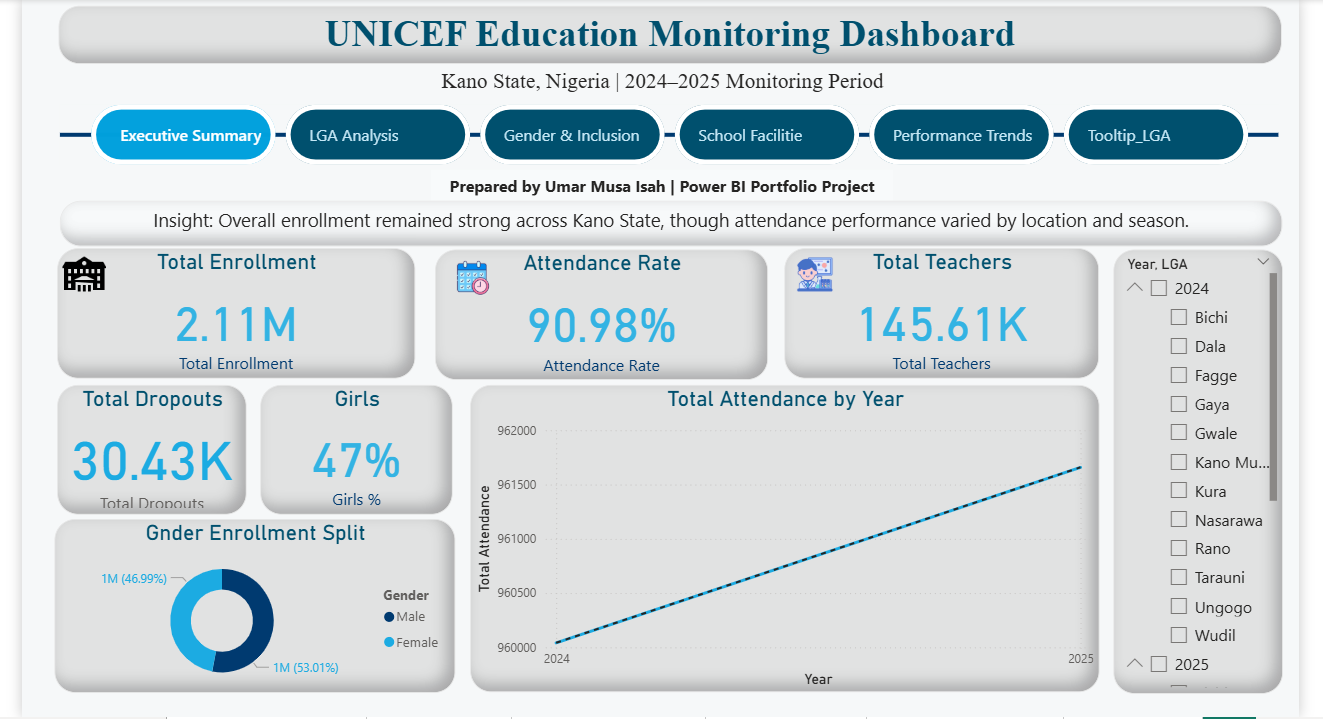

The page's visual inventory and layout, read from the dashboard file:
{"tool":"powerbi","page":{"name":"Executive Summary","canvas":[1280,720],"ordinal":0},"visuals":[{"type":"shape","box":[38.3,105.6,1221.1,60.5],"z":0},{"type":"card","title":"Total Enrollment","fields":{"Values":["Raw_Data.Total Enrollment"]},"box":[35.4,250.6,358.6,131],"z":0,"group":"g1"},{"type":"card","title":"Attendance Rate","fields":{"Values":["Raw_Data.Attendance Rate"]},"box":[414.4,250.5,334.1,131],"z":1000,"group":"g2"},{"type":"donutChart","title":"Gnder Enrollment Split","fields":{"Y":["Sum(Raw_Data.Enrollment)"],"Category":["Raw_Data.Gender"]},"box":[33.1,521.3,401.8,174.2],"z":1000},{"type":"card","title":"Girls","fields":{"Values":["Raw_Data.Girls %"]},"box":[238.7,387,193,129.6],"z":2000},{"type":"lineChart","fields":{"Category":["Raw_Data.Date.Variation.Date Hierarchy.Year","Raw_Data.Date.Variation.Date Hierarchy.Quarter","Raw_Data.Date.Variation.Date Hierarchy.Month","Raw_Data.Date.Variation.Date Hierarchy.Day"],"Y":["Raw_Data.Total Attendance"]},"box":[449.3,387.4,630.7,308.2],"z":2000},{"type":"slicer","fields":{"Values":["Raw_Data.Year","Raw_Data.LGA"]},"box":[1094.4,250.6,169.9,445],"z":3000},{"type":"textbox","box":[36.9,6.2,1226.2,58.5],"z":4000},{"type":"textbox","box":[387.7,64.6,507.7,38.5],"z":5000},{"type":"card","title":"Total Teachers","fields":{"Values":["Raw_Data.Total Teachers"]},"box":[764.6,250.1,315.4,131],"z":5000,"group":"g3"},{"type":"textbox","box":[409.2,170.8,463.1,30.8],"z":6000},{"type":"card","title":"Total Dropouts","fields":{"Values":["Raw_Data.Total Dropouts"]},"box":[35.6,387.4,190.1,129.6],"z":6000},{"type":"textbox","box":[37.7,201.9,1225.4,46.1],"z":7000},{"type":"pageNavigator","box":[68.6,105.6,1160.6,60.5],"z":8000},{"type":"group","id":"g1","title":"Group 1","box":[34.2,244.8,359.8,136.8],"z":9000},{"type":"group","id":"g2","title":"Group 2","box":[414.4,250.5,334.1,131],"z":10000},{"type":"group","id":"g3","title":"Group 3","box":[764.6,250.1,315.4,131],"z":11000},{"type":"image","box":[34.2,244.8,56.5,62.9],"z":13000,"group":"g1"},{"type":"image","box":[769.6,252.9,49.5,47.4],"z":15000,"group":"g3"},{"type":"image","box":[425.6,256.1,56.2,47.4],"z":17000,"group":"g2"}]}

Visuals, with their boxes on the page's 1280x720 design canvas (x1, y1, x2, y2). These are canvas units, not pixel positions in the 1323x719 screenshot, which may show the page scaled, cropped or inside an application window:
shape: box=[38, 106, 1259, 166]
"Total Enrollment" card: box=[35, 251, 394, 382]
"Attendance Rate" card: box=[414, 250, 748, 382]
"Gnder Enrollment Split" donutChart: box=[33, 521, 435, 696]
"Girls" card: box=[239, 387, 432, 517]
lineChart - Raw_Data.Date.Variation.Date Hierarchy.Year x Raw_Data.Date.Variation.Date Hierarchy.Quarter: box=[449, 387, 1080, 696]
slicer - Raw_Data.Year x Raw_Data.LGA: box=[1094, 251, 1264, 696]
textbox: box=[37, 6, 1263, 65]
textbox: box=[388, 65, 895, 103]
"Total Teachers" card: box=[765, 250, 1080, 381]
textbox: box=[409, 171, 872, 202]
"Total Dropouts" card: box=[36, 387, 226, 517]
textbox: box=[38, 202, 1263, 248]
pageNavigator: box=[69, 106, 1229, 166]
"Group 1" group: box=[34, 245, 394, 382]
"Group 2" group: box=[414, 250, 748, 382]
"Group 3" group: box=[765, 250, 1080, 381]
image: box=[34, 245, 91, 308]
image: box=[770, 253, 819, 300]
image: box=[426, 256, 482, 304]
